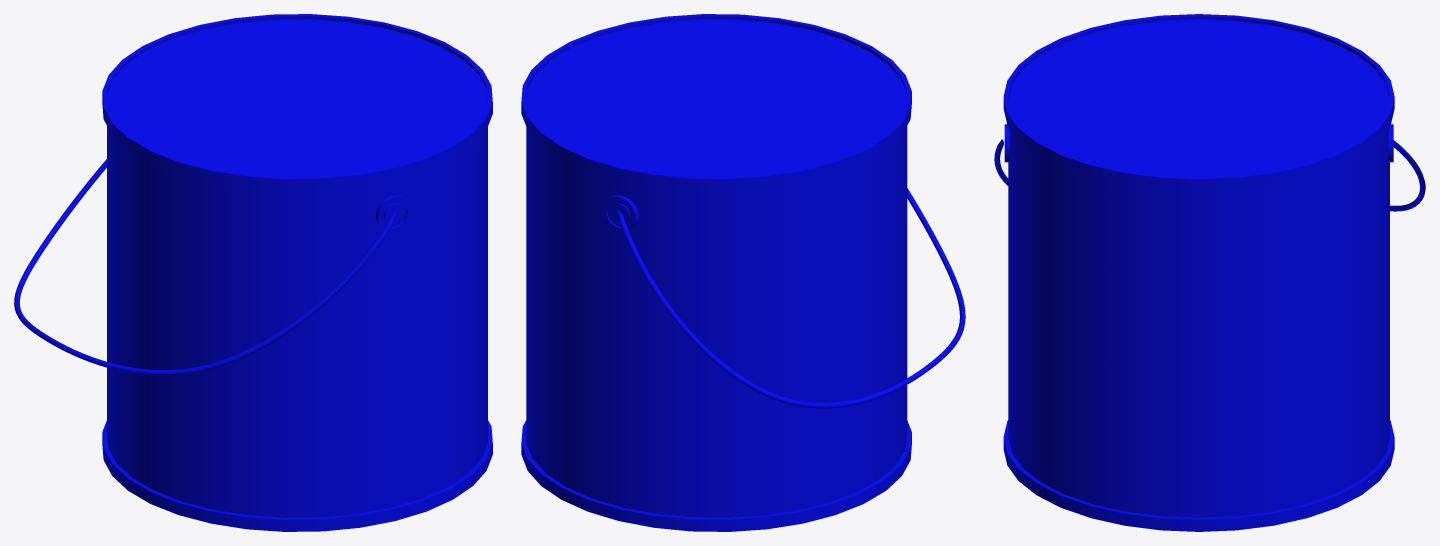
File: Paint Can.fbx
The picture shows the model from 3 angles, left to right: view 1: azimuth 30°, elevation 25°; view 2: azimuth 150°, elevation 25°; view 3: azimuth 270°, elevation 25°; orthographic projection.
Visible parts, largest first — view 1: Paint Can; view 2: Paint Can; view 3: Paint Can.
Boxes of the visible parts, box(x1,y1,x2,y2) form: Paint Can: box(14, 14, 492, 531); Paint Can: box(521, 14, 965, 531); Paint Can: box(994, 14, 1425, 531).
Bounding box in the file's own units: 30.03 × 24.79 × 27.46.
